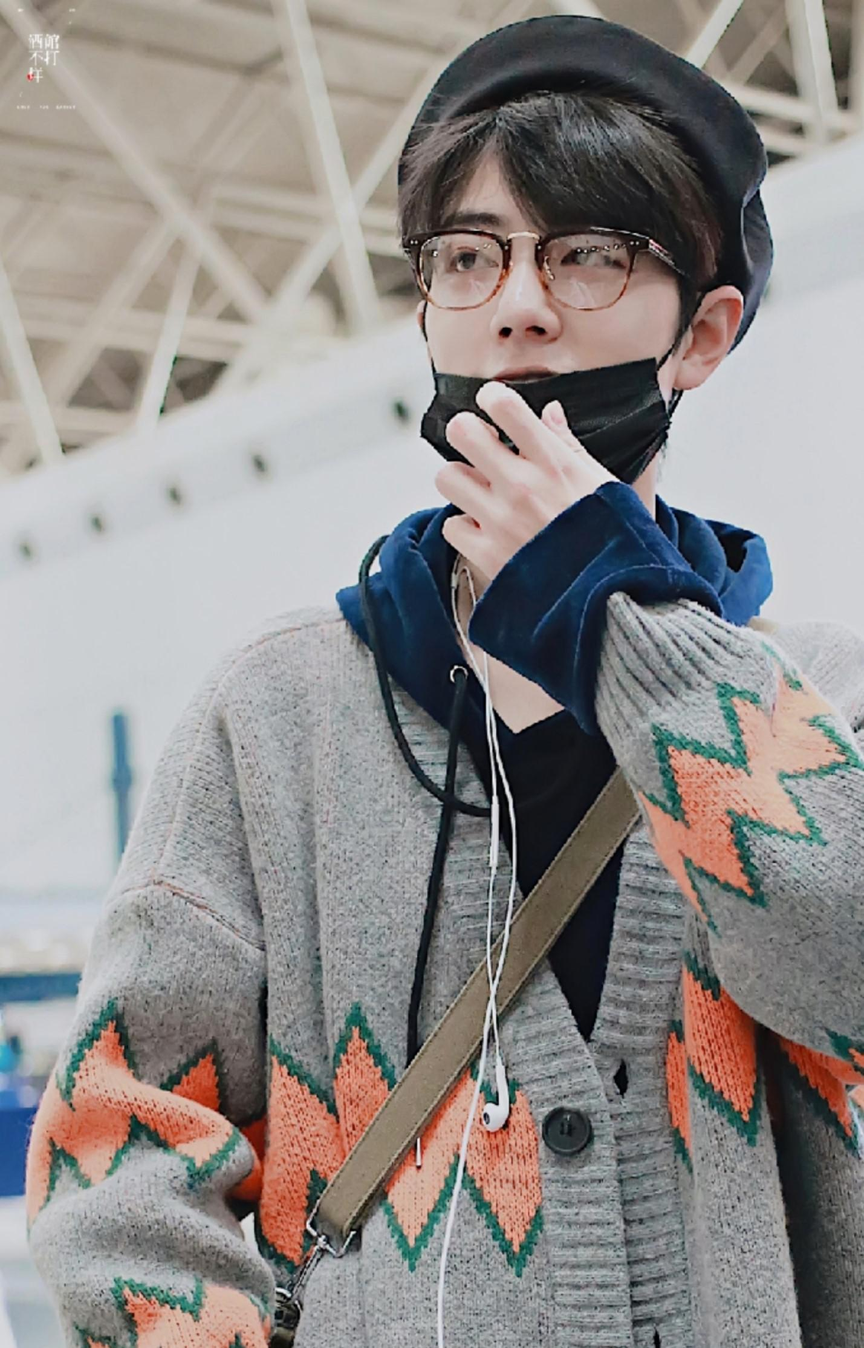WRONG: (421, 187, 677, 505)
